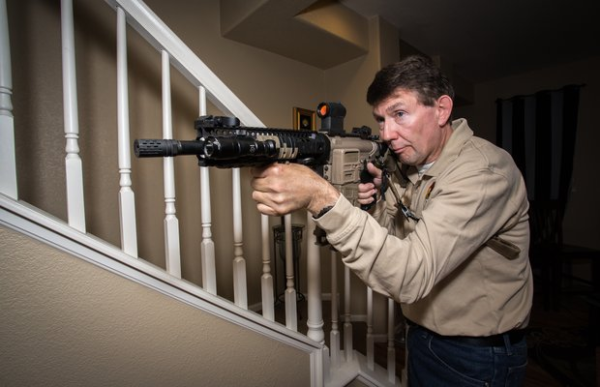Gun: (134, 111, 398, 180)
